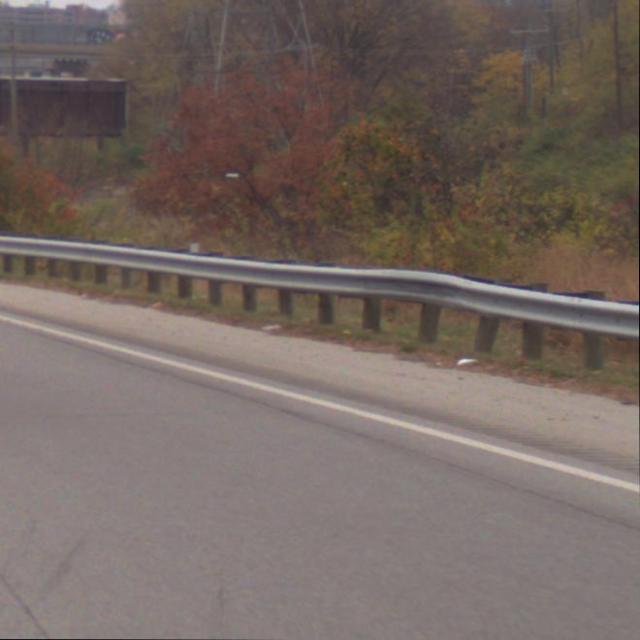Guard rail: (0, 230, 640, 383)
